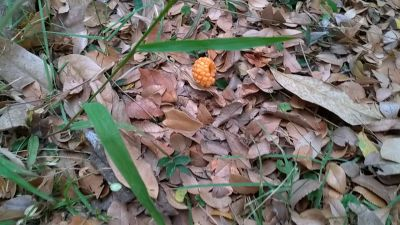eggs: (190, 54, 218, 90)
